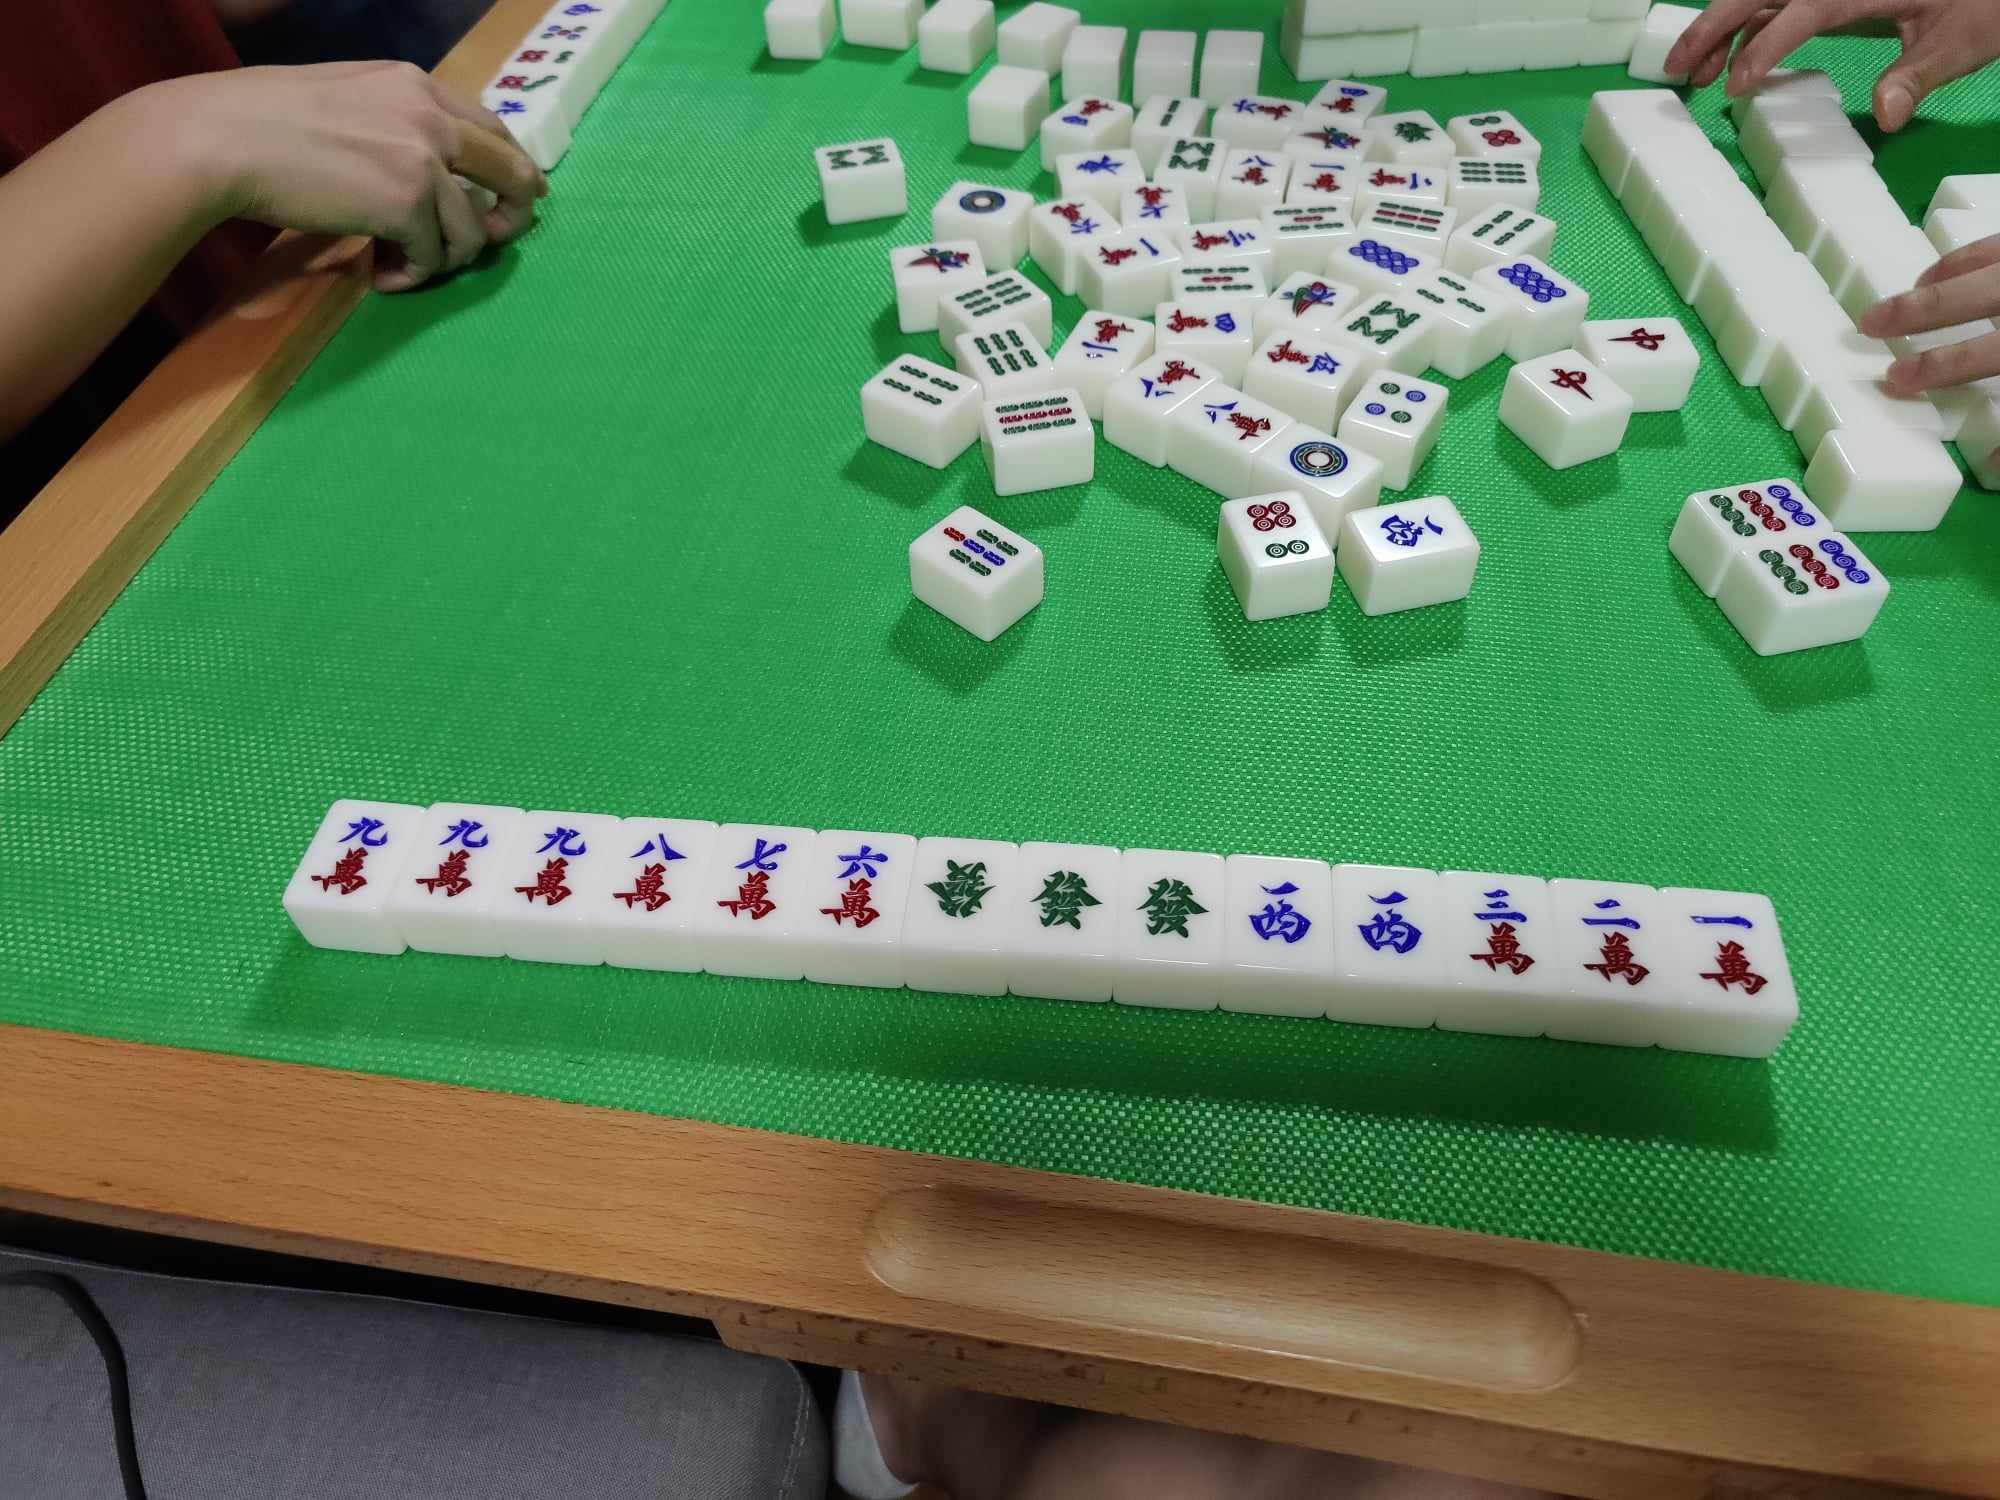character-eight: (614, 826, 687, 925)
character-nine: (309, 804, 391, 903), (411, 810, 491, 911), (517, 819, 594, 909)
character-one: (1674, 900, 1773, 1004)
character-seven: (710, 826, 791, 930)
character-six: (816, 835, 898, 939)
character-three: (1457, 881, 1542, 983)
character-two: (1556, 886, 1658, 993)
honor-green_dragon: (1124, 865, 1216, 960), (913, 841, 1002, 937), (1017, 854, 1107, 945)
honor-west_wind: (1233, 865, 1320, 956), (1343, 876, 1428, 966)
